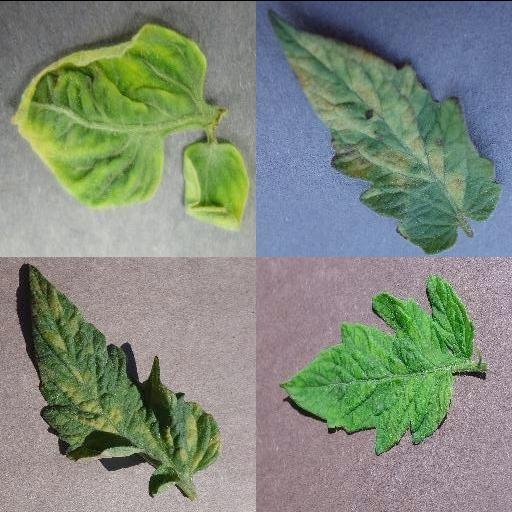Leaf Mold: (267, 7, 503, 254), (26, 265, 224, 497)
Mosaic Virus: (279, 276, 475, 456)
Yellow Leaf Curl Virus: (10, 21, 208, 207), (183, 140, 247, 230)
